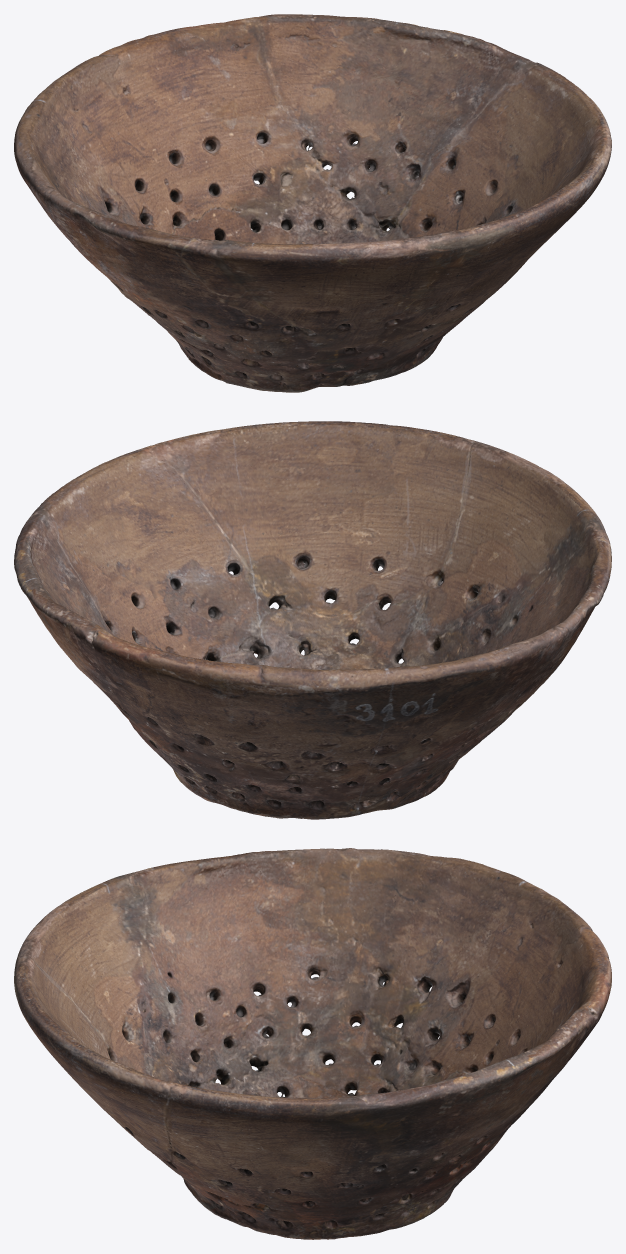
Rendered from sieve.glb.
The picture shows the model from 3 angles, top to bottom: view 1: azimuth 30°, elevation 25°; view 2: azimuth 150°, elevation 25°; view 3: azimuth 270°, elevation 25°; orthographic projection. The views are drawn at different scales.
Visible parts, largest first — view 1: Object_3, Object_2, Object_4, Object_5; view 2: Object_3, Object_4, Object_2, Object_5; view 3: Object_2, Object_3, Object_4, Object_5.
Boxes of the visible parts, left/top/right/bottom form: Object_3: left=136, top=14, right=611, bottom=373; Object_2: left=14, top=18, right=526, bottom=392; Object_4: left=87, top=14, right=611, bottom=392; Object_5: left=17, top=41, right=399, bottom=370; Object_3: left=14, top=429, right=501, bottom=818; Object_4: left=14, top=421, right=611, bottom=811; Object_2: left=27, top=511, right=611, bottom=819; Object_5: left=209, top=498, right=611, bottom=819; Object_2: left=195, top=848, right=609, bottom=1238; Object_3: left=14, top=941, right=611, bottom=1237; Object_4: left=14, top=851, right=598, bottom=1239; Object_5: left=66, top=850, right=602, bottom=1097.
Bounding box in the file's own units: 0.1571 × 0.0635 × 0.1549.
1 material, 1 textured.
